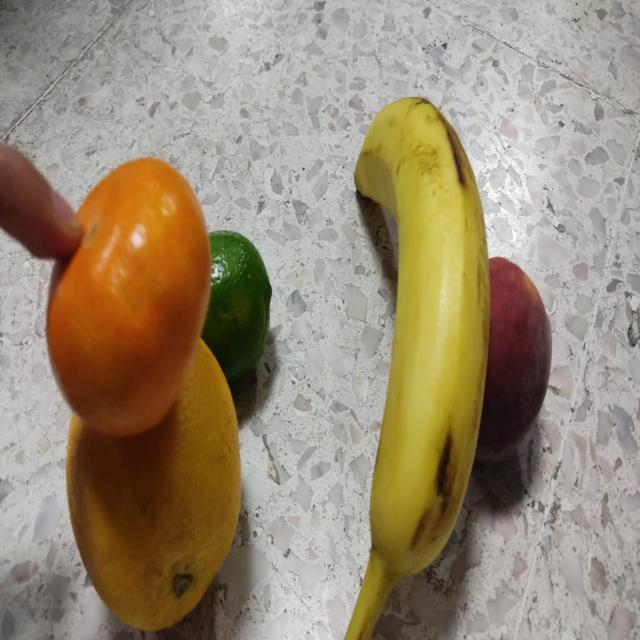Jeruk: (60, 322, 245, 640)
Jeruk Mandarin: (42, 144, 215, 448)
Lemon: (187, 225, 277, 391)
Persik: (454, 246, 558, 469)
Pisang: (336, 87, 495, 640)
